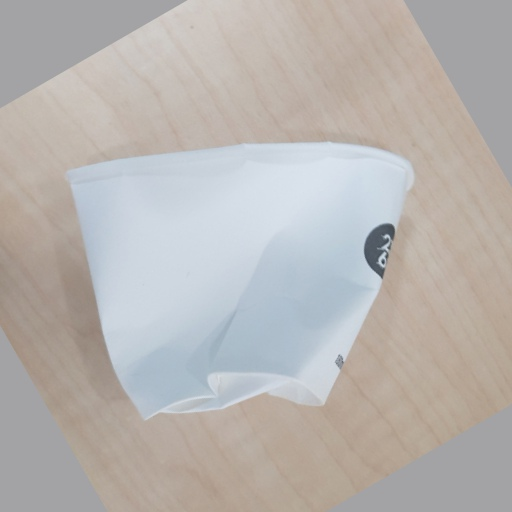Paper_1: (67, 142, 416, 421)
